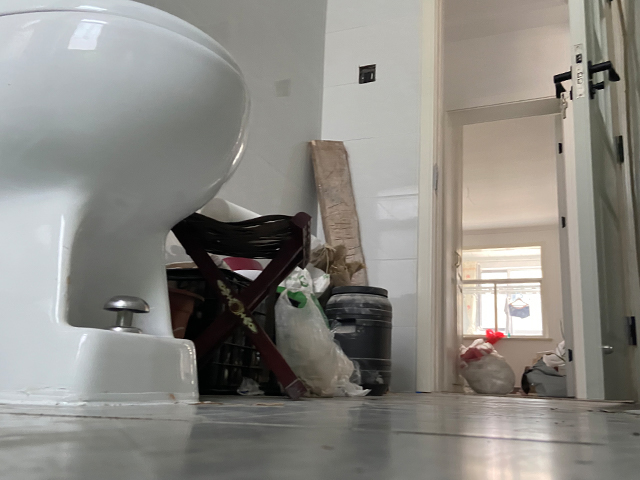closestool: (1, 1, 252, 406)
stool: (171, 211, 310, 401)
